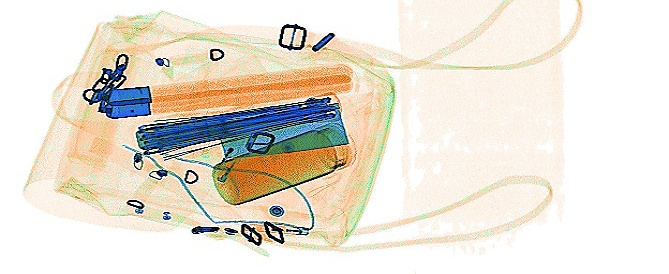zippooil: (216, 100, 348, 159)
